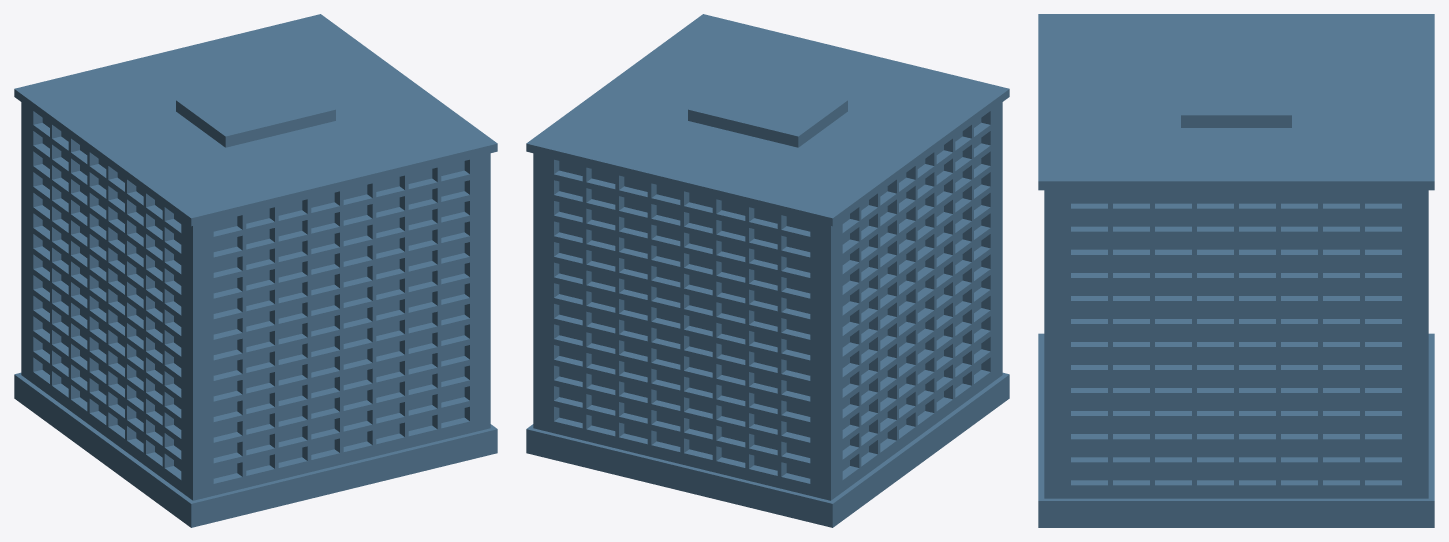
The model's file is commercial.glb.
3 renders of one model, left to right at view 1: azimuth 30°, elevation 25°; view 2: azimuth 150°, elevation 25°; view 3: azimuth 270°, elevation 25°, orthographic. The views are drawn at different scales.
Parts seen in each view (by area): view 1: commercial; view 2: commercial; view 3: commercial.
Part boxes in pixels (x1,y1,x2,y2): commercial: [14, 14, 497, 527]; commercial: [526, 14, 1009, 527]; commercial: [1038, 14, 1434, 527].
Size of the model in its own units: 1 by 1 by 1.
